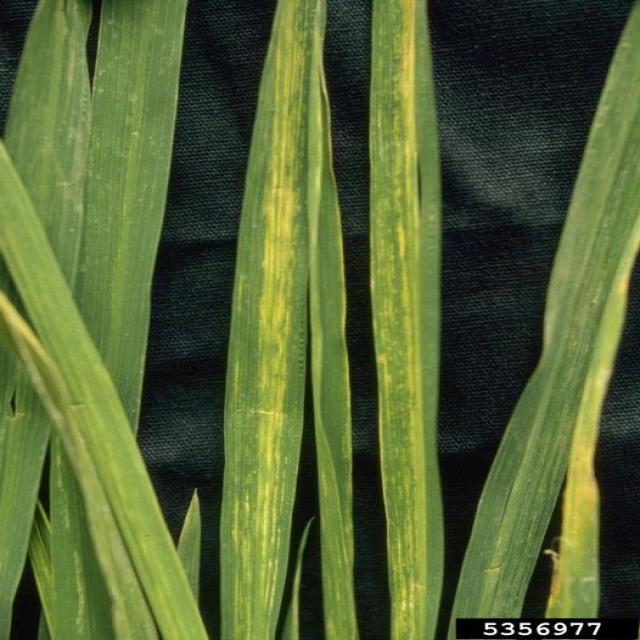Bacterial leaf blight: (243, 73, 327, 602), (371, 13, 443, 591), (539, 237, 624, 615), (0, 291, 98, 428)
